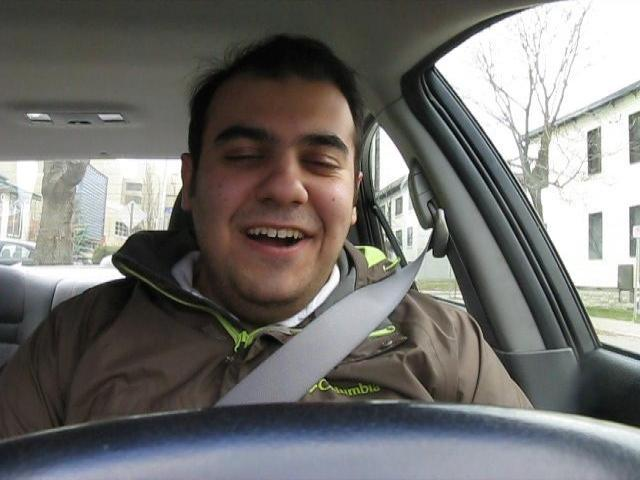eye_closed: (299, 150, 345, 174), (219, 145, 267, 167)
face: (207, 112, 358, 300)
mouth_open: (236, 217, 316, 260)
